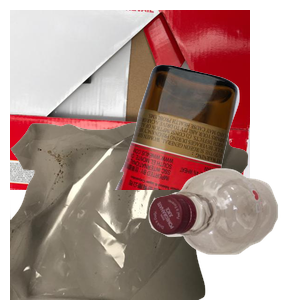cardboard: (10, 10, 250, 190)
glass: (113, 62, 300, 242)
plastic: (146, 166, 300, 300)
trash: (10, 120, 250, 300)
